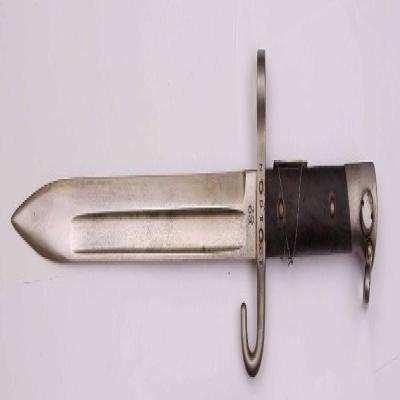weapon: (11, 48, 378, 377)
